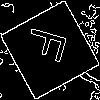F: (25, 25, 77, 67)
